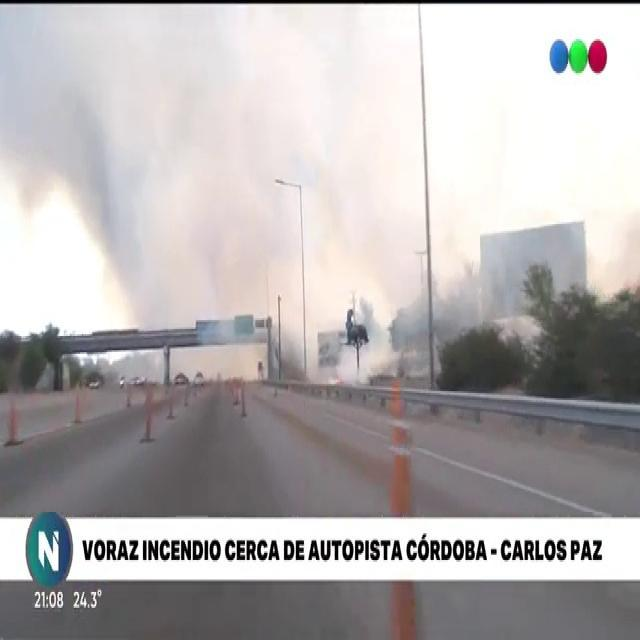Smoke: (259, 135, 640, 361)
